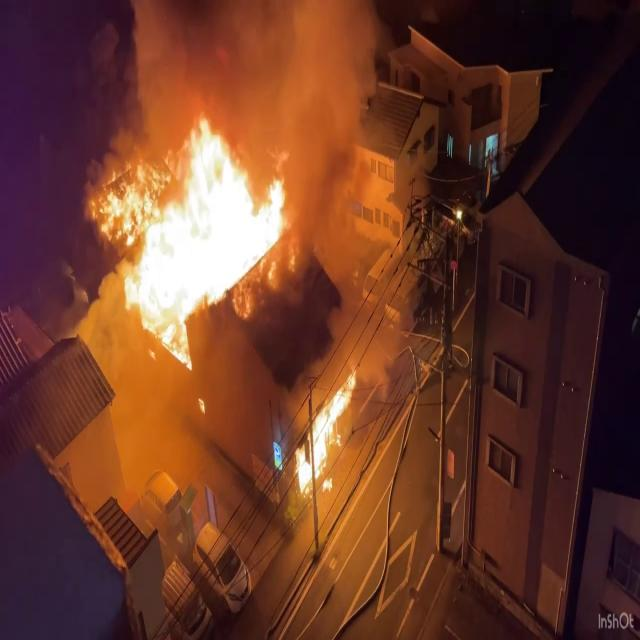Fire: (95, 112, 298, 361), (292, 364, 359, 497)
Smoke: (130, 0, 387, 194)
